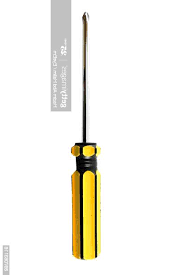Screwdriver: (64, 10, 111, 264)
